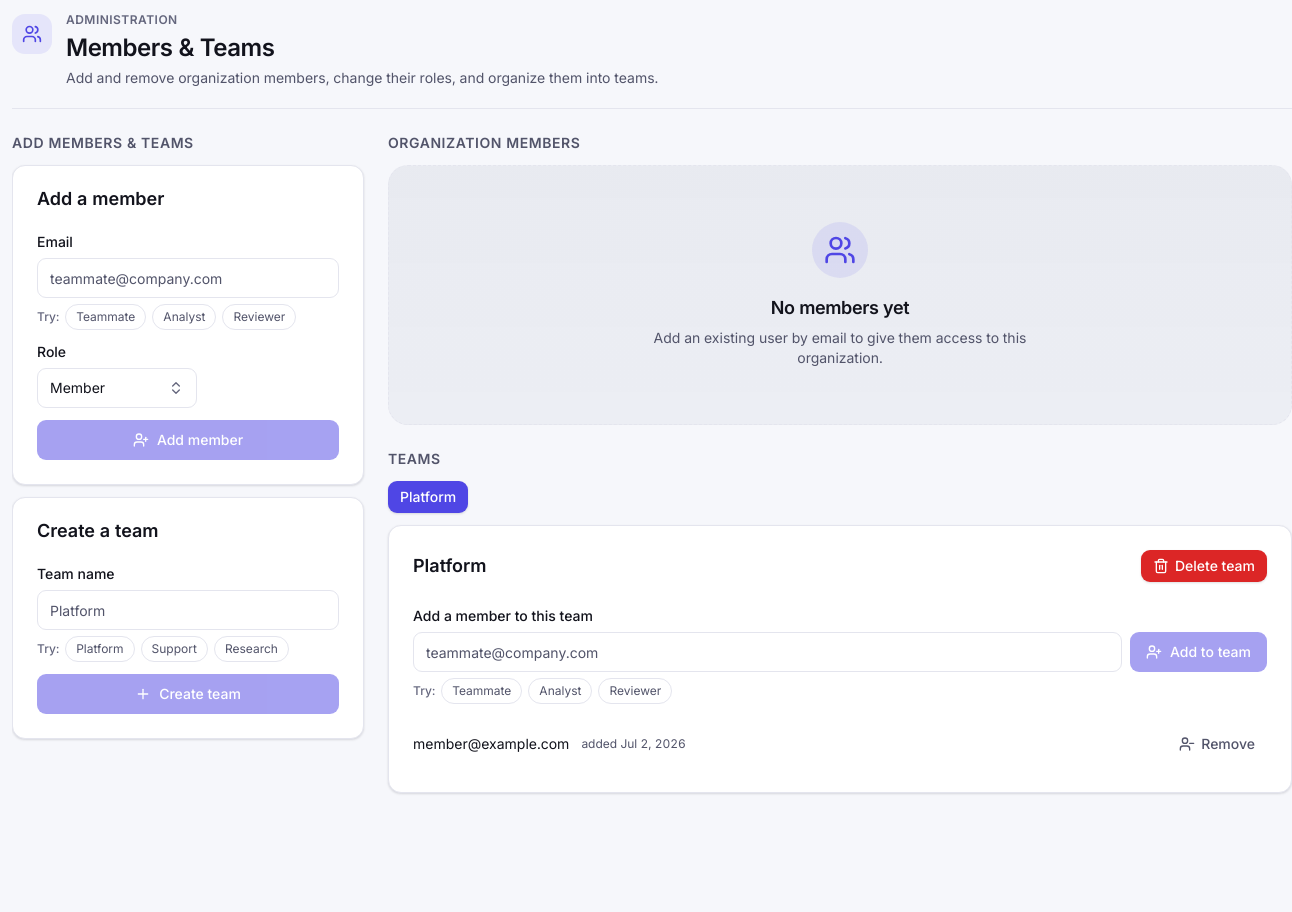
org management gating (MSW) › lists a team's members and removes one through DELETE
The image size is (1292, 912).
expect the list with test id "team-members-list" is shown: met, box top-left (413, 720), bottom-right (1267, 768)
expect the element with test id "team-detail-card" shows "Platform": met, box top-left (413, 555), bottom-right (486, 576)
Click the button with test id "remove-team-member-u2" at (1217,744), box top-left (1167, 728), bottom-right (1267, 760)
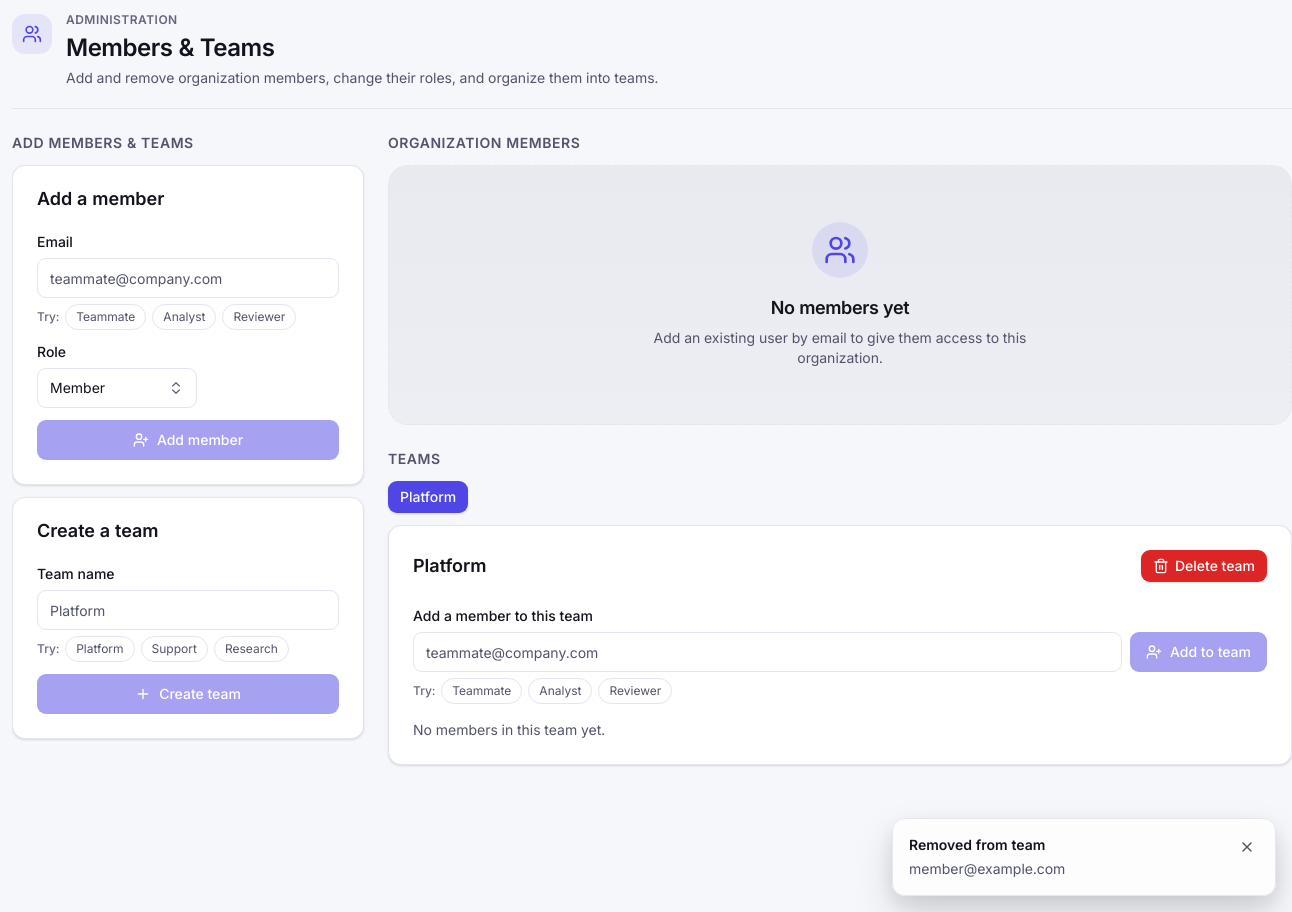
expect the text "No members in this team yet." is shown: met, box top-left (413, 721), bottom-right (605, 738)
